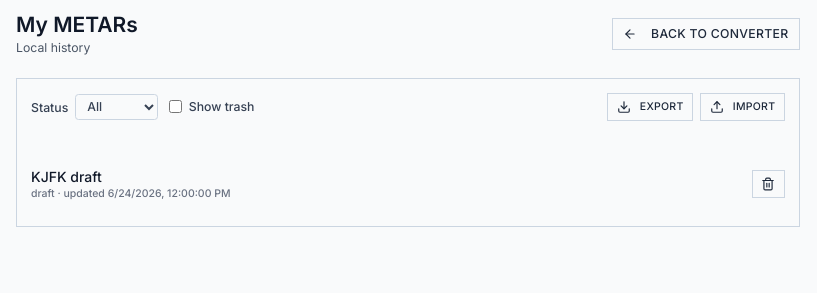
it: MyMetarsPage › exports sessions as tac-work-sessions-export-v1 JSON
The image size is (817, 293).
Expected: the text "KJFK draft" is shown, [31,168,102,185]
Click the button with test id "export-sessions" at (650, 106), box [607,92,693,120]
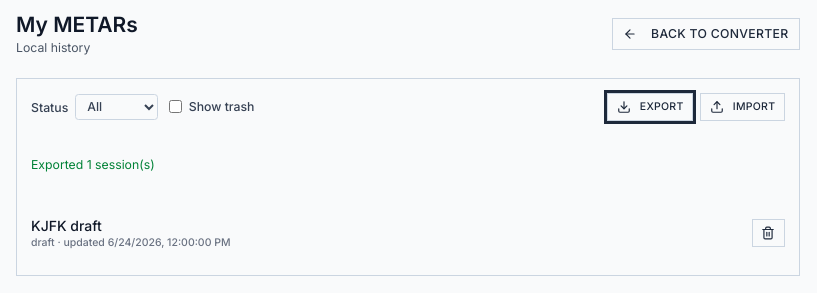
Expected: the text "Exported 1 session(s)" is shown, [31,156,155,172]
